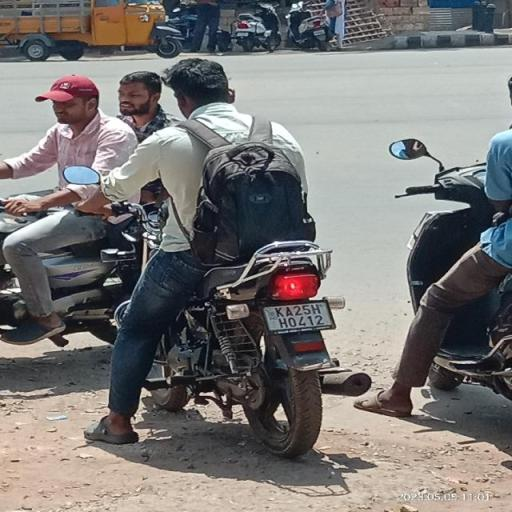bike: (68, 50, 372, 470)
numberplate: (254, 286, 344, 336)
withouthelmet: (170, 57, 233, 113)
